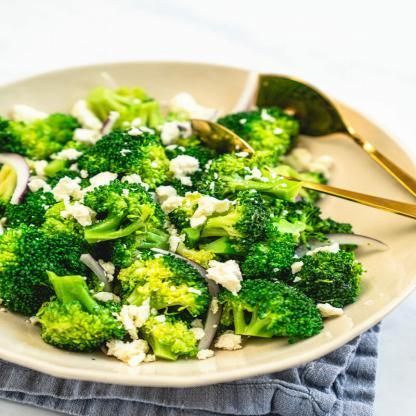broccoli: (0, 77, 367, 364)
